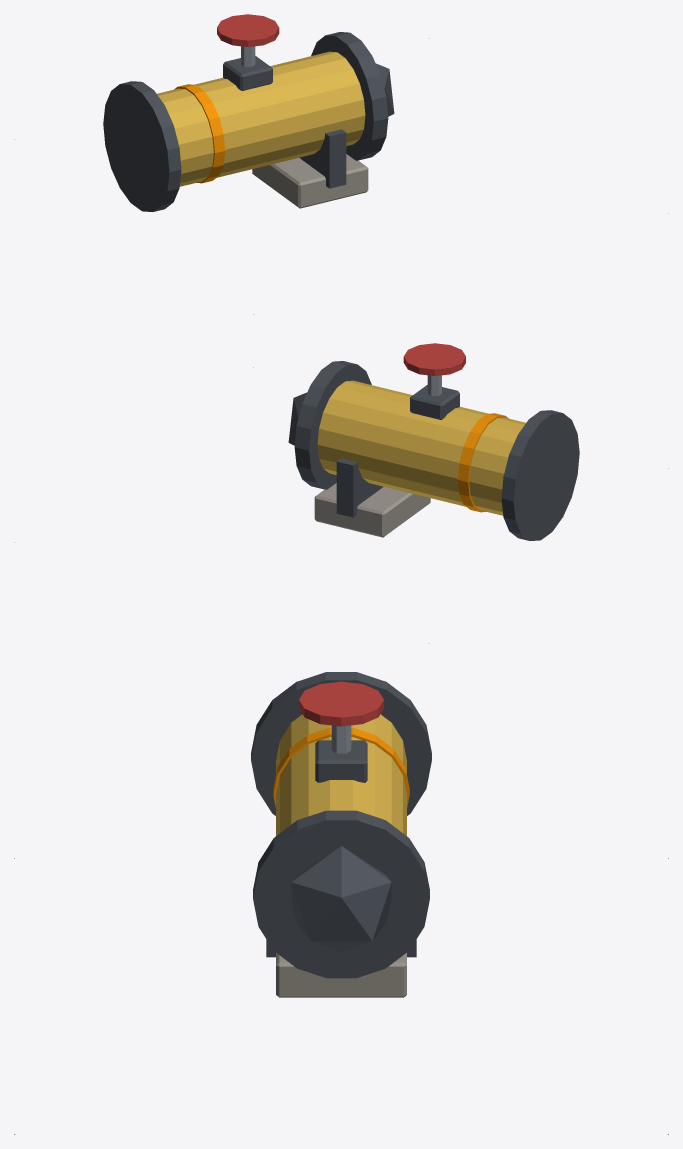
File: tuyau_bout_t2.glb
3 views of the same model, one above another, from view 1: azimuth 30°, elevation 25°; view 2: azimuth 150°, elevation 25°; view 3: azimuth 270°, elevation 25° (orthographic). The views are drawn at different scales.
Parts seen in each view (by area): view 1: pieces_laiton.014, pieces_acier_sombre.044, pieces_beton.044, pieces_rouge.008, pieces_rive_t2.014; view 2: pieces_laiton.014, pieces_acier_sombre.044, pieces_beton.044, pieces_rouge.008, pieces_rive_t2.014; view 3: pieces_acier_sombre.044, pieces_laiton.014, pieces_beton.044, pieces_rouge.008, pieces_rive_t2.014.
Boxes of the visible parts, x1,y1,x2,y2 form: pieces_laiton.014: (157, 51, 365, 186); pieces_acier_sombre.044: (103, 32, 394, 211); pieces_beton.044: (252, 154, 368, 208); pieces_rouge.008: (217, 14, 279, 46); pieces_rive_t2.014: (174, 84, 225, 183); pieces_laiton.014: (317, 380, 525, 515); pieces_acier_sombre.044: (288, 361, 579, 540); pieces_beton.044: (314, 483, 430, 537); pieces_rouge.008: (403, 343, 465, 375); pieces_rive_t2.014: (457, 413, 508, 512); pieces_acier_sombre.044: (251, 672, 431, 978); pieces_laiton.014: (276, 714, 406, 835); pieces_beton.044: (276, 953, 406, 997); pieces_rouge.008: (299, 681, 383, 726); pieces_rive_t2.014: (273, 727, 409, 807).
Bounding box in the file's own units: 1 × 0.395 × 1.
